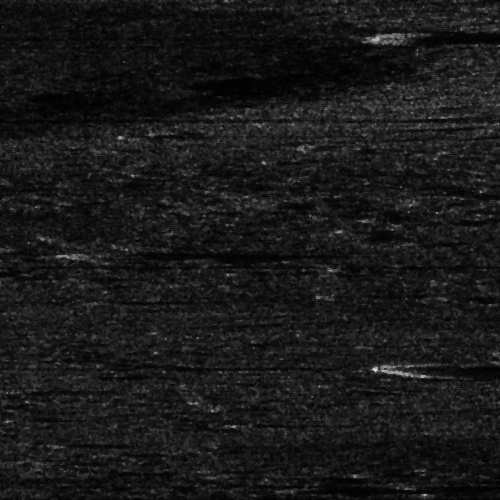object: (50, 246, 165, 259), (368, 362, 431, 369), (0, 498, 111, 500), (287, 486, 328, 491)
shadow: (108, 246, 315, 259), (308, 486, 500, 491), (400, 362, 500, 369), (53, 498, 212, 500)
